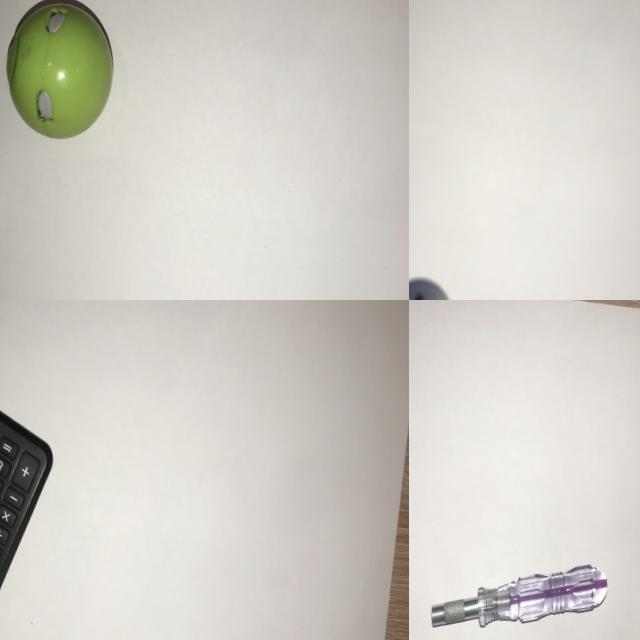calculator: (0, 375, 63, 640)
screwdriver: (421, 539, 616, 640)
toy: (0, 0, 129, 154)
